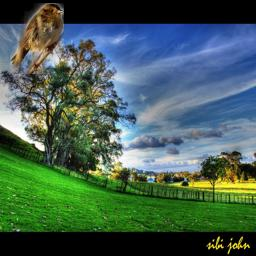Sparrow: (10, 3, 64, 74)
